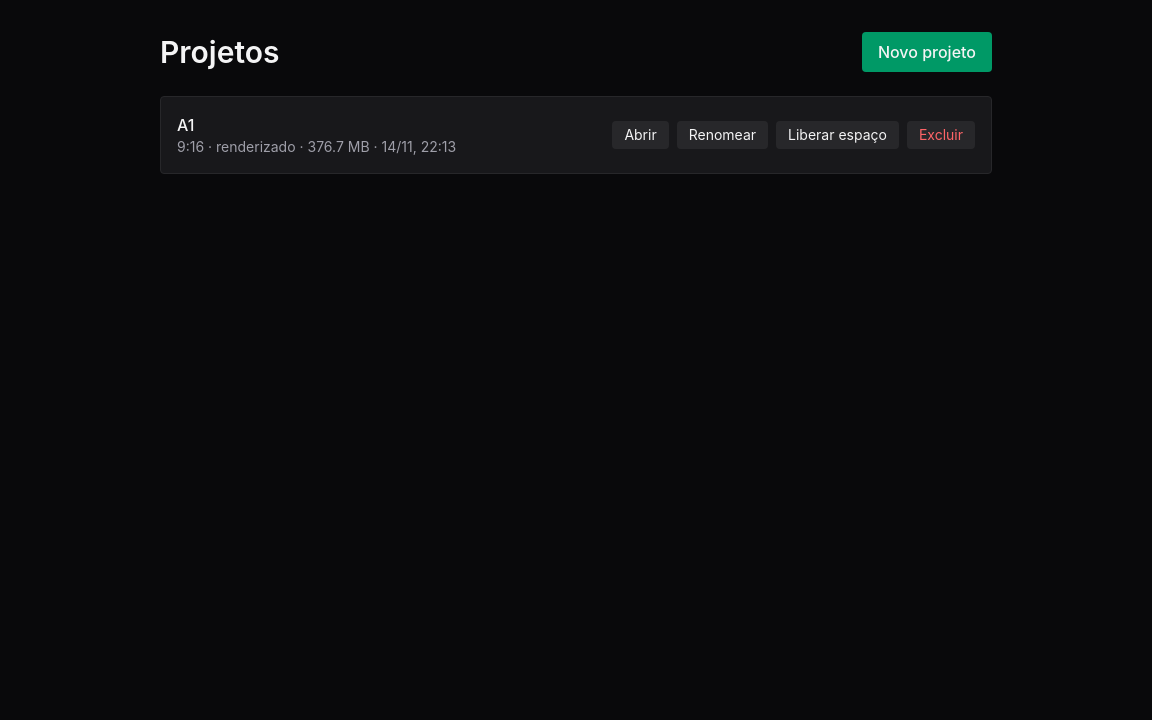
Scenario: ProjectsScreen — excluir › Esc fecha a confirmação de exclusão sem apagar
Click the button with aria-label "excluir A1": (941, 135) [907,121,975,149]
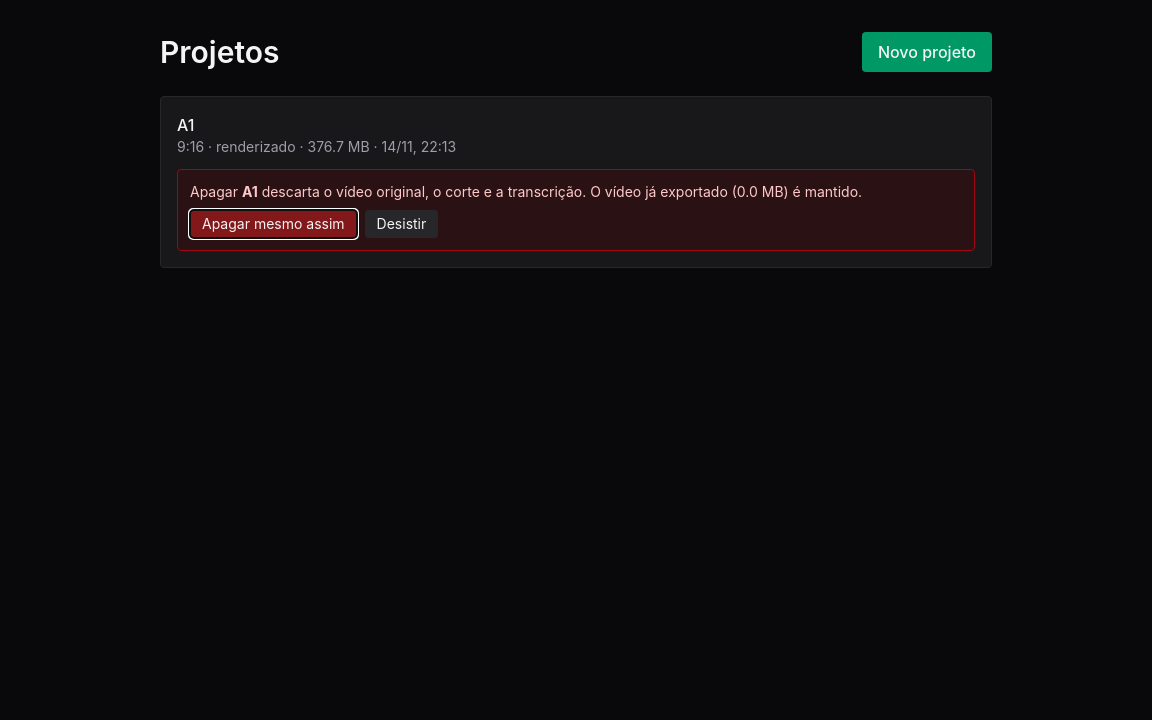
Press Escape in the dialog named "confirmar exclusão de A1", box [177,169,975,251]
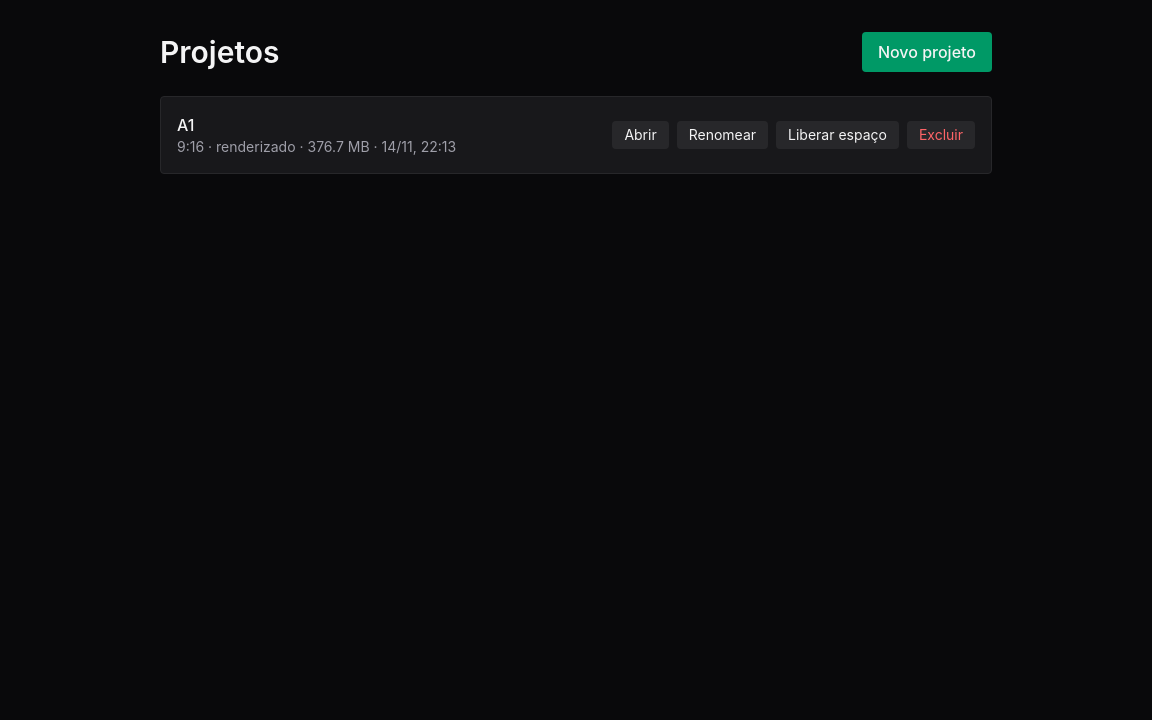
Expected: the text "A1" is shown, [177,113,194,137]
Now the dialog is gone
